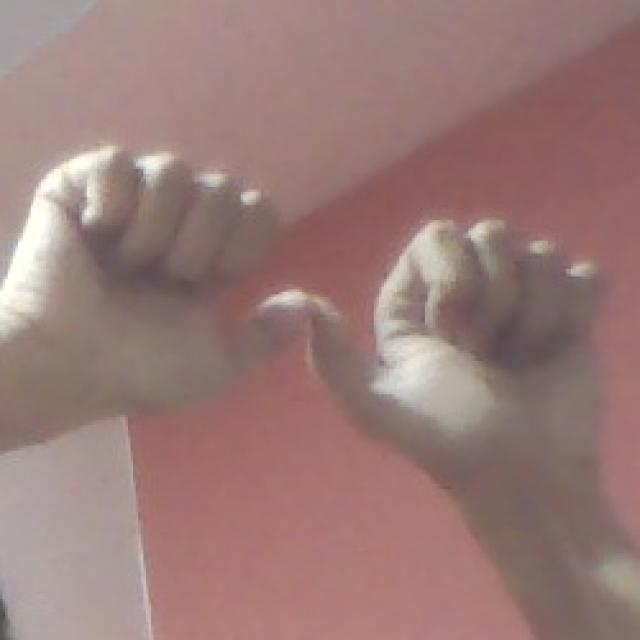Alphabet-A: (26, 143, 611, 500)
